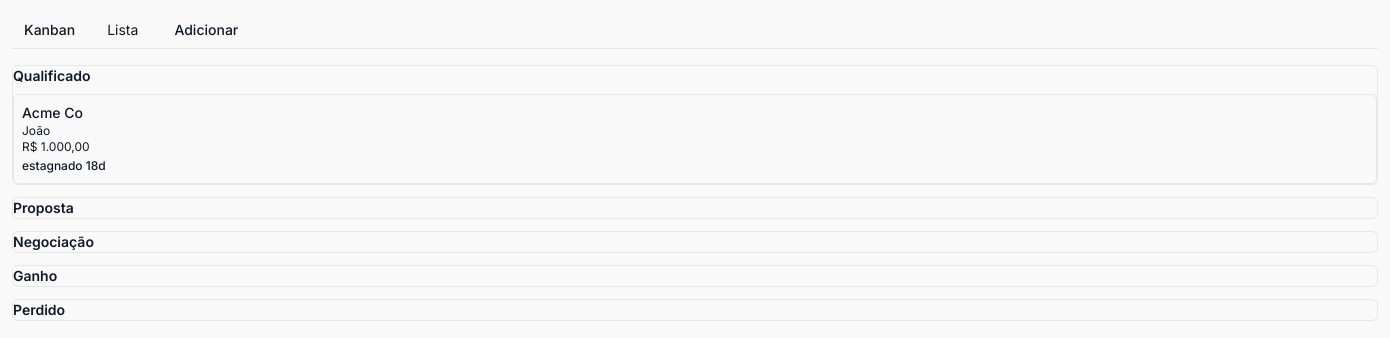
Test case: FunilPanel Kanban/Lista toggle (sales-pipeline-via-agent-task-frontend-funil-1) › unit-1: clicking Lista toggle re-renders the table view without changing the route/URL
This screenshot has width=1390, height=338.
Expected: the heading "Qualificado" is shown, [13,67,90,84]
Click the tab with aria-label "visualização lista": {"x": 123, "y": 30} [95,12,150,48]
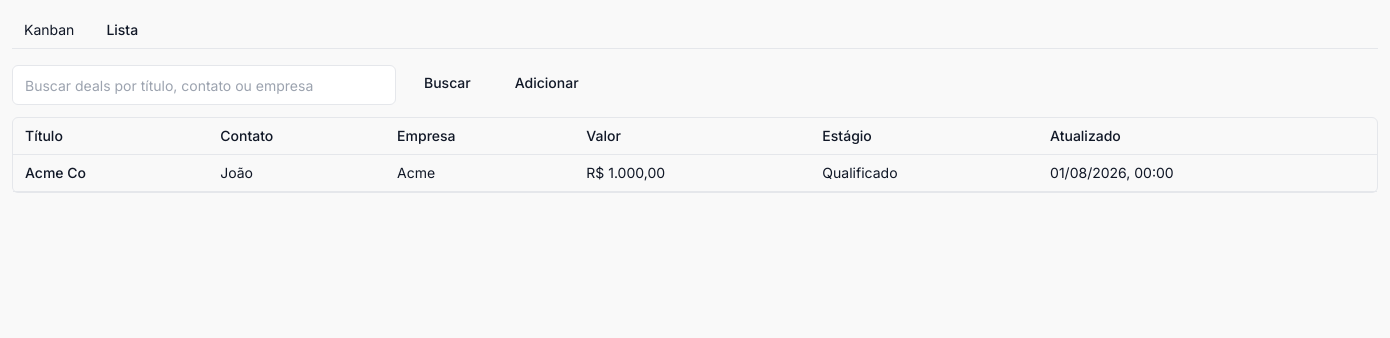
Expected: the column heading "Título" is shown, [13,118,208,154]
